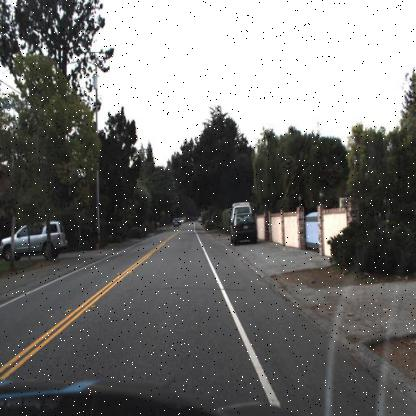car: (0, 218, 68, 263), (228, 211, 257, 245), (230, 200, 253, 222)
